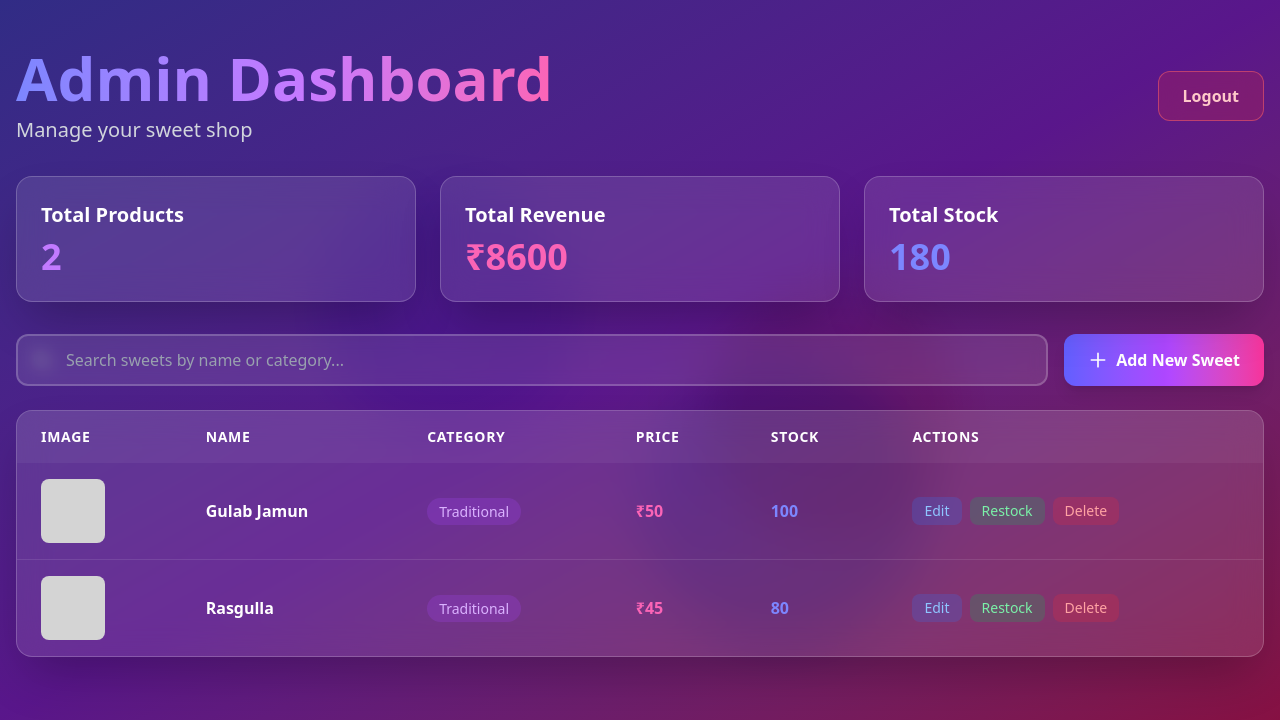
DashboardContent - Restock Sweet › opens restock modal when Restock button is clicked
Expected: the text "Gulab Jamun" is shown, x1=182 y1=463 x2=403 y2=560
What coordinates should you click on to do the following:
click the button "Restock" in the row of "Gulab Jamun"
I would click on:
 (1007, 511)
Its box is x1=970 y1=497 x2=1044 y2=525.
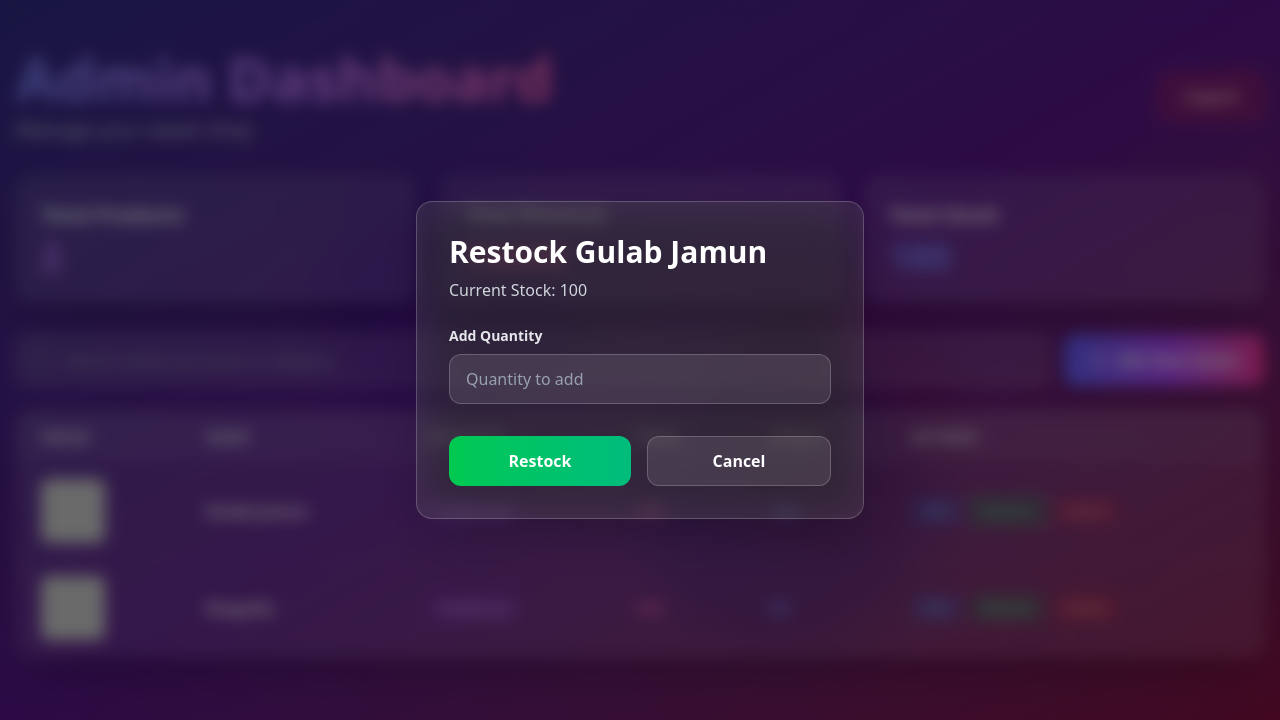
Expected: the heading "Restock Gulab Jamun" is shown, x1=449 y1=231 x2=767 y2=272
Expected: the text "Current Stock: 100" is shown, x1=449 y1=279 x2=587 y2=301
